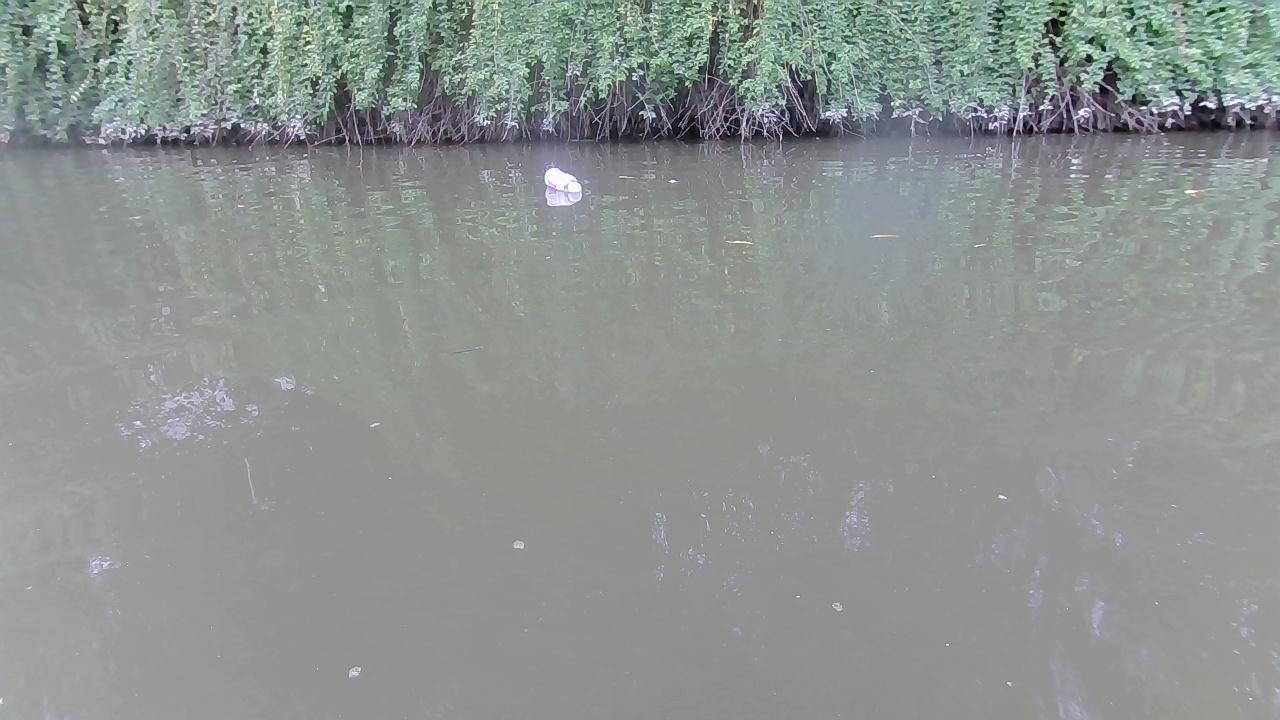bottle: (541, 167, 581, 194)
